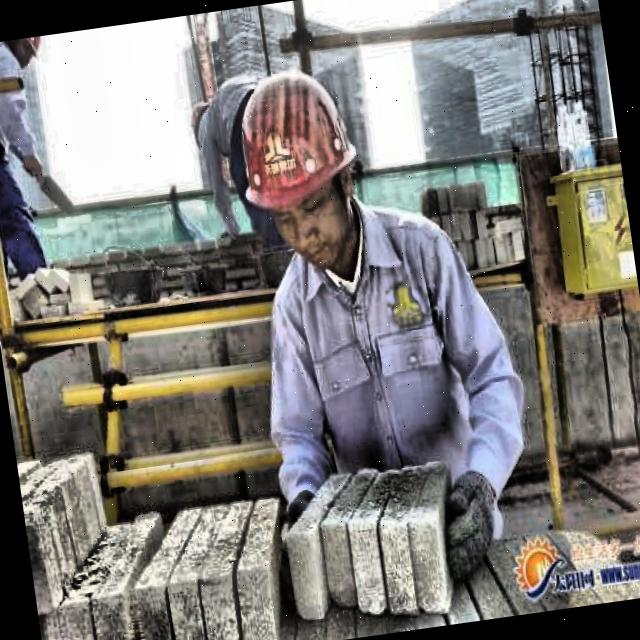helmet: (217, 53, 381, 286), (185, 89, 223, 157)
